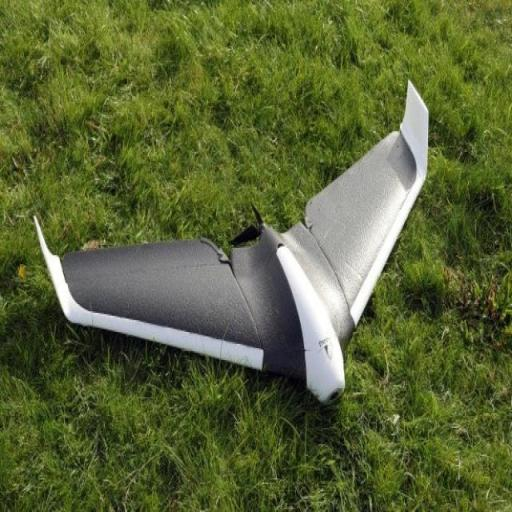uav: (45, 75, 429, 412)
